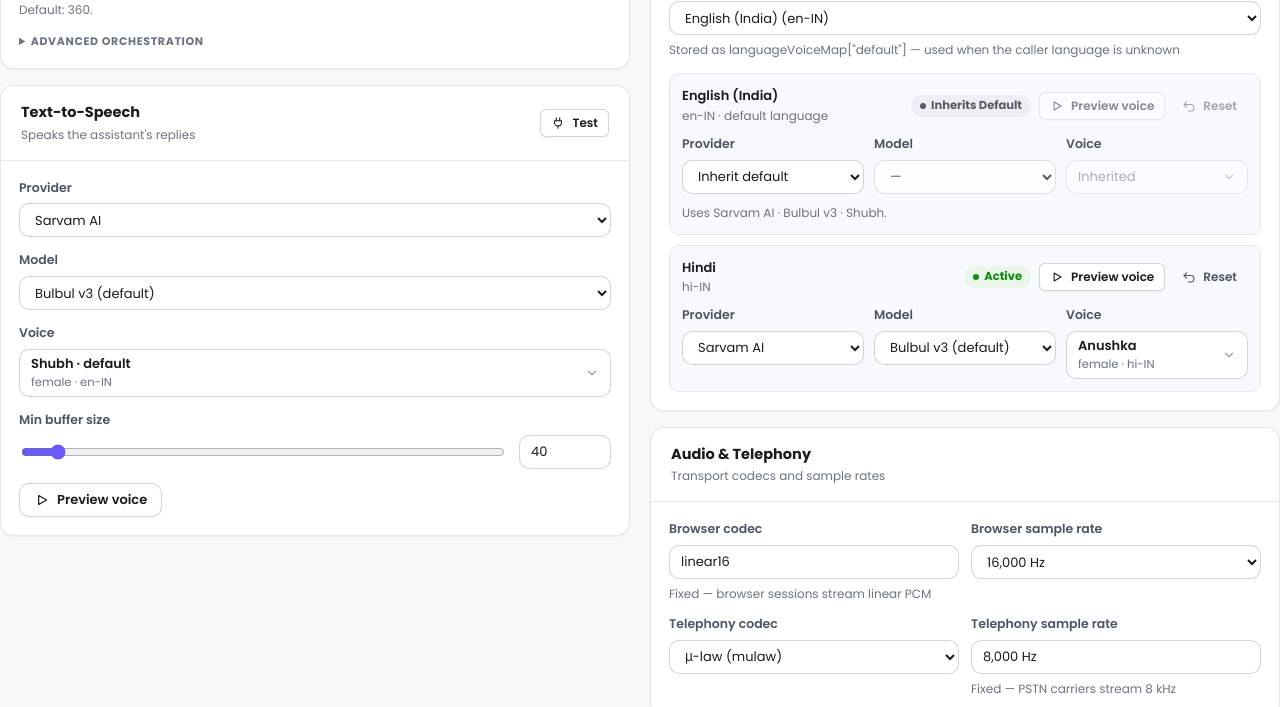
it: VoiceTab — Per-language voices › provider change resets model and voice, then loads the new provider's catalog
(page scrolled)
Expected: the text "Hindi" is shown, top-left (682, 258), bottom-right (716, 277)
Expected: the text "Anushka" is shown, top-left (1078, 336), bottom-right (1137, 355)
Select "ElevenLabs" in the dropdown named "Voice provider for hi-IN": {"x": 773, "y": 348} top-left (682, 331), bottom-right (864, 365)
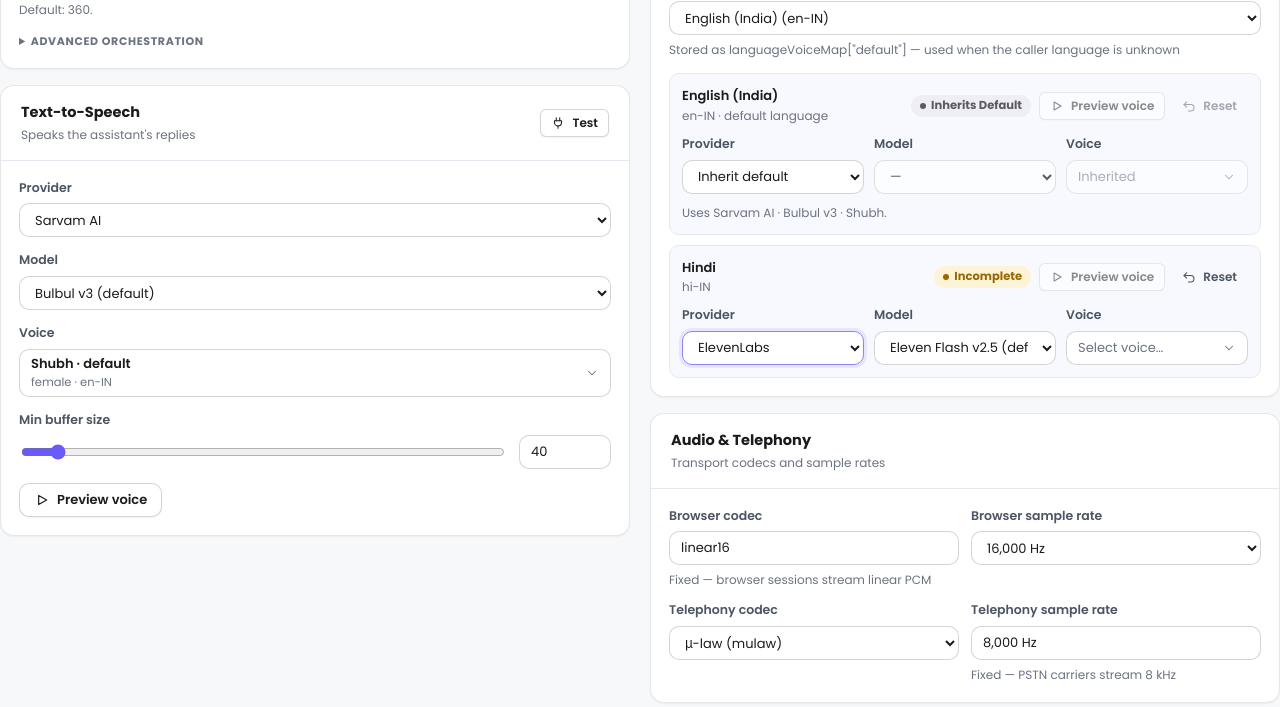
Result: the dropdown named "Voice model for hi-IN" shows "Eleven Flash v2.5 (default)" at top-left (874, 331), bottom-right (1056, 365)
Result: the text "Anushka" is gone
Result: the text "Select voice…" is shown at top-left (1078, 338), bottom-right (1163, 357)
